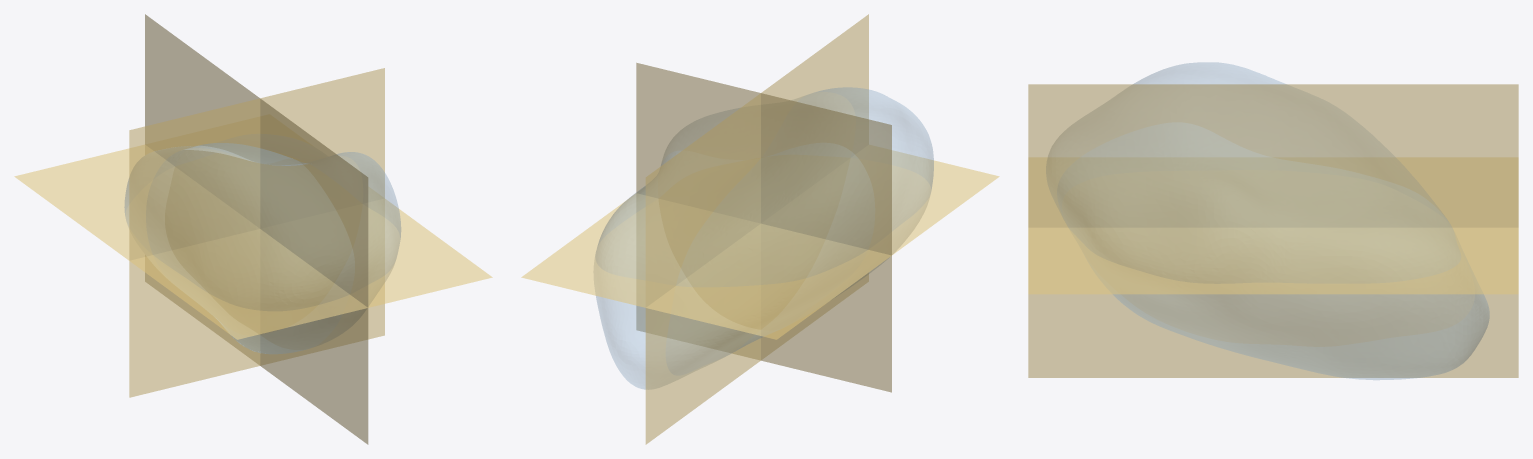
The model's file is prompt.glb.
The picture shows the model from 3 angles, left to right: view 1: azimuth 30°, elevation 25°; view 2: azimuth 150°, elevation 25°; view 3: azimuth 270°, elevation 25°; orthographic projection. The views are drawn at different scales.
Parts seen in each view (by area): view 1: world; view 2: world; view 3: world.
Part boxes in pixels (bbox=[...]): world: bbox=[14, 14, 492, 444]; world: bbox=[521, 14, 999, 444]; world: bbox=[1028, 62, 1518, 379].
Size of the model in its own units: 0.6406 by 0.6406 by 0.9688.
